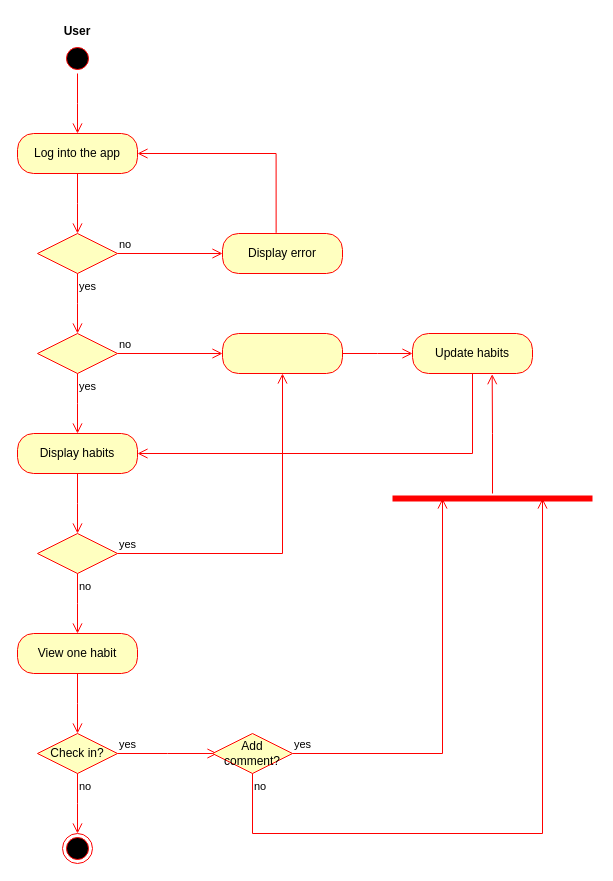
The diagram is 613 pixels wide and 881 high, and some of its shapes have lost their labels. The centre of each missing label's shape, as x and y in pixels:
"Add new habit" goes at pixel 77 553.
"Condition" goes at pixel 77 353.
"Correct?" goes at pixel 77 253.
"Enter a new habit" goes at pixel 282 353.
